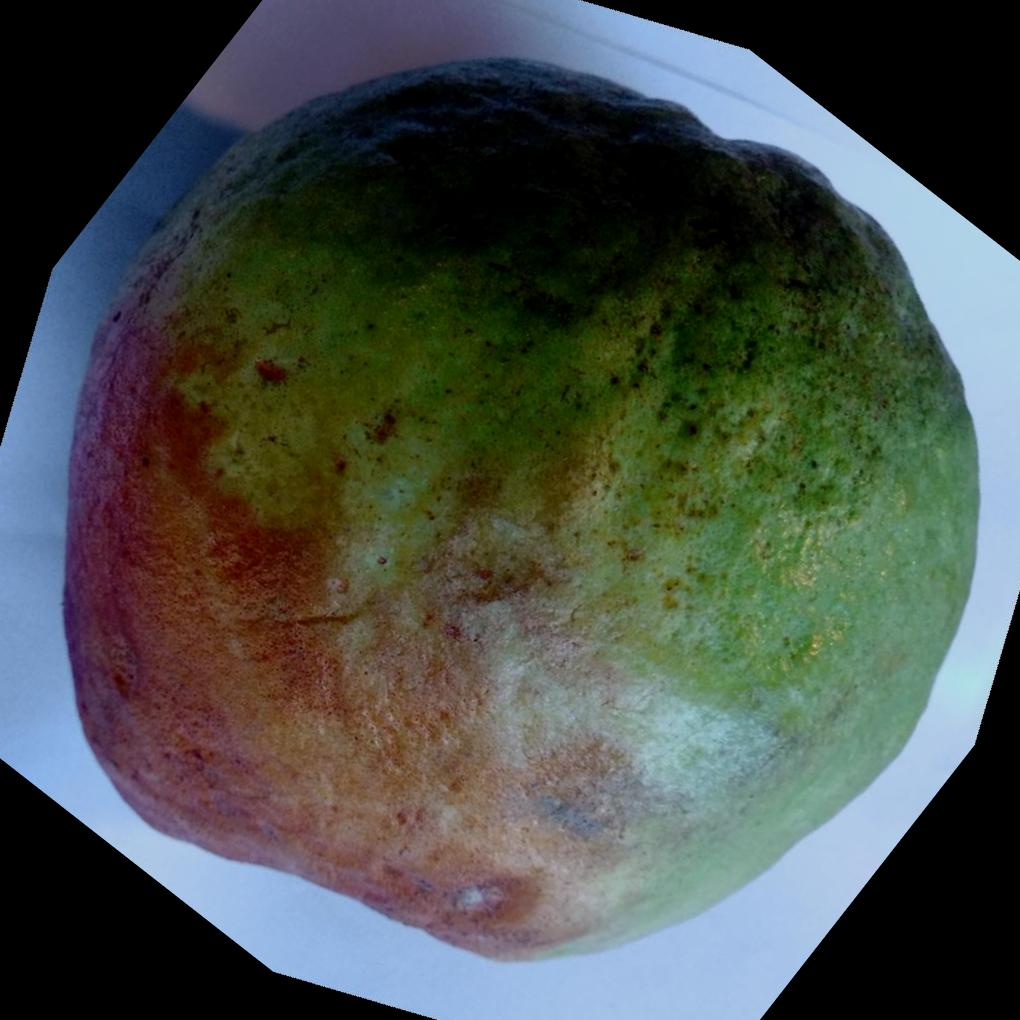FreshOrange: (58, 56, 980, 967)
